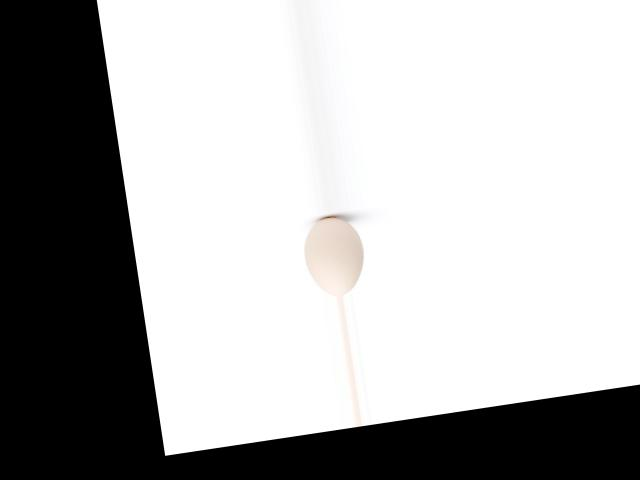egg: (298, 212, 368, 299)
